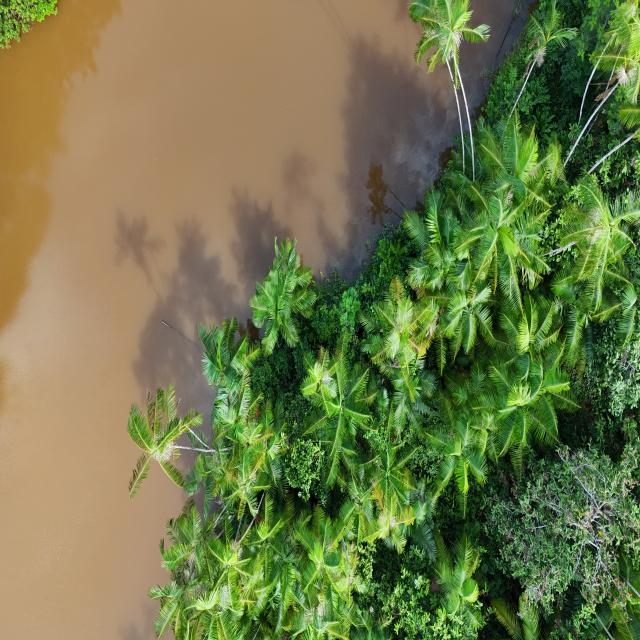vegetation: (126, 1, 639, 638)
